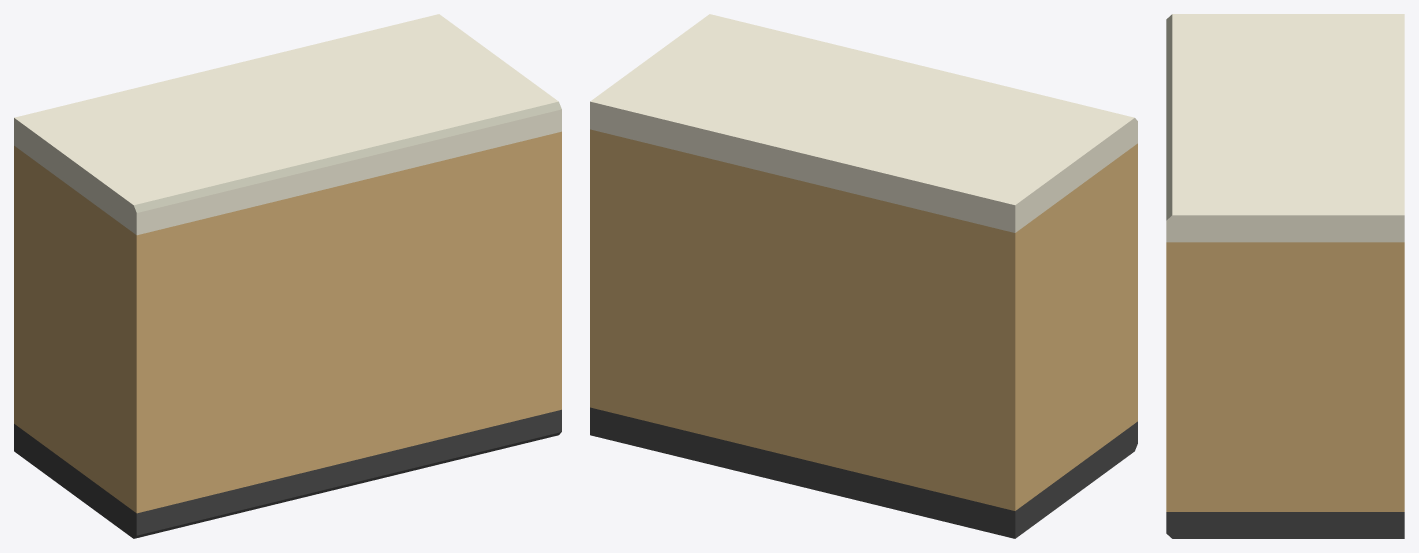
File: cafedeskedge.glb
3 renders of one model, left to right at view 1: azimuth 30°, elevation 25°; view 2: azimuth 150°, elevation 25°; view 3: azimuth 270°, elevation 25°, orthographic. The views are drawn at different scales.
Visible parts, largest first — view 1: Cube; view 2: Cube; view 3: Cube.
Boxes of the visible parts, x1=… form: Cube: x1=14, y1=14, x2=561, y2=538; Cube: x1=590, y1=14, x2=1137, y2=538; Cube: x1=1166, y1=14, x2=1404, y2=538.
Size of the model in its own units: 2 by 1.5 by 1.
